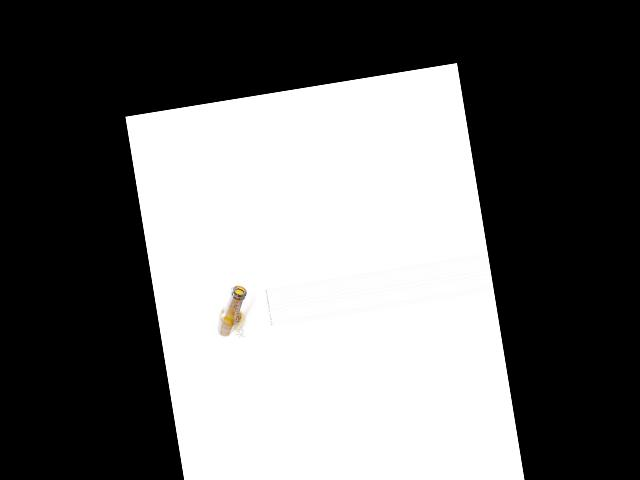beer: (211, 284, 253, 337)
